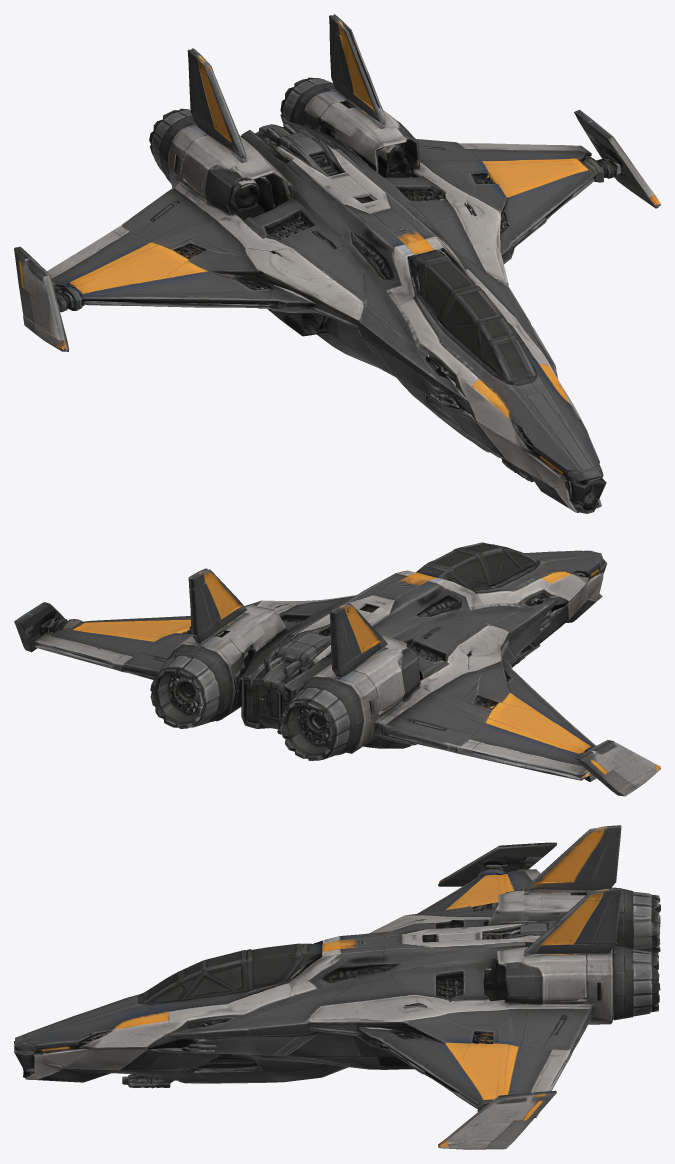
Rendered from interceptor-very-high.glb.
3 renders of one model, top to bottom at view 1: azimuth 30°, elevation 25°; view 2: azimuth 150°, elevation 25°; view 3: azimuth 270°, elevation 25°, orthographic. The views are drawn at different scales.
Visible parts, largest first — view 1: Low; view 2: Low; view 3: Low.
Part boxes in pixels (x1,y1,x2,y2): Low: (14,14,660,513); Low: (14,542,660,796); Low: (14,825,660,1149).
Size of the model in its own units: 1.68 by 0.6738 by 1.72.
Materials: 1 (1 with a texture image).
